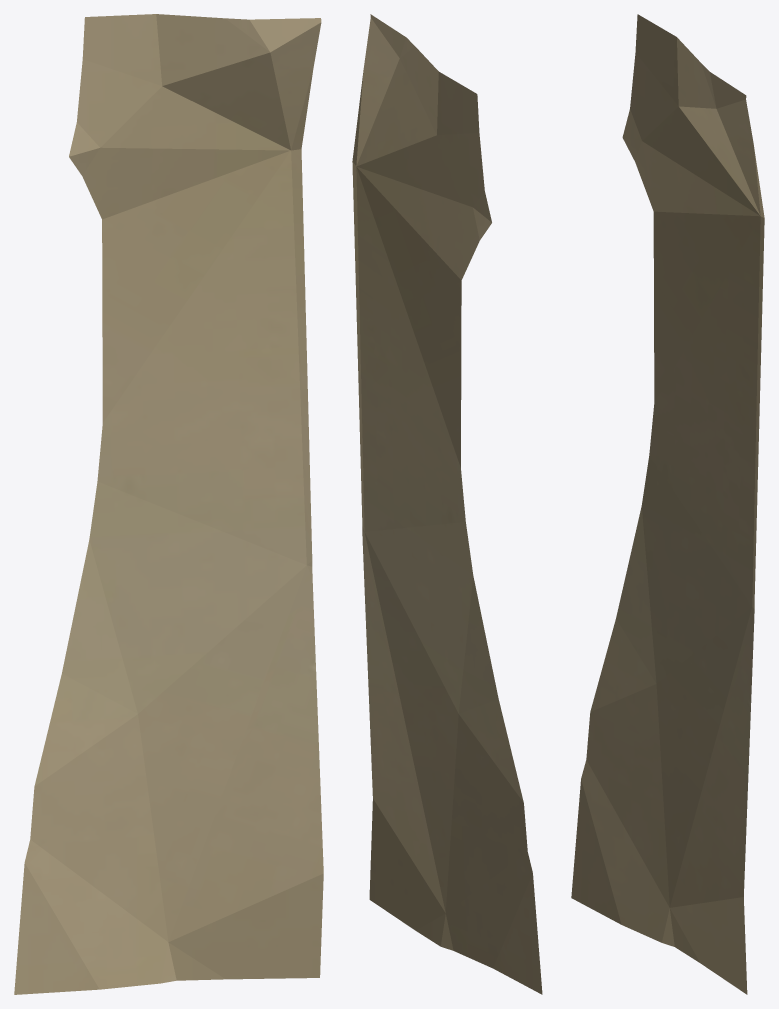
3 renders of one model, left to right at view 1: azimuth 30°, elevation 25°; view 2: azimuth 150°, elevation 25°; view 3: azimuth 330°, elevation 25°, orthographic. The views are drawn at different scales.
Size of the model in its own units: 0.2252 by 0.8374 by 0.0991.
Materials: 1 (1 with a texture image).
